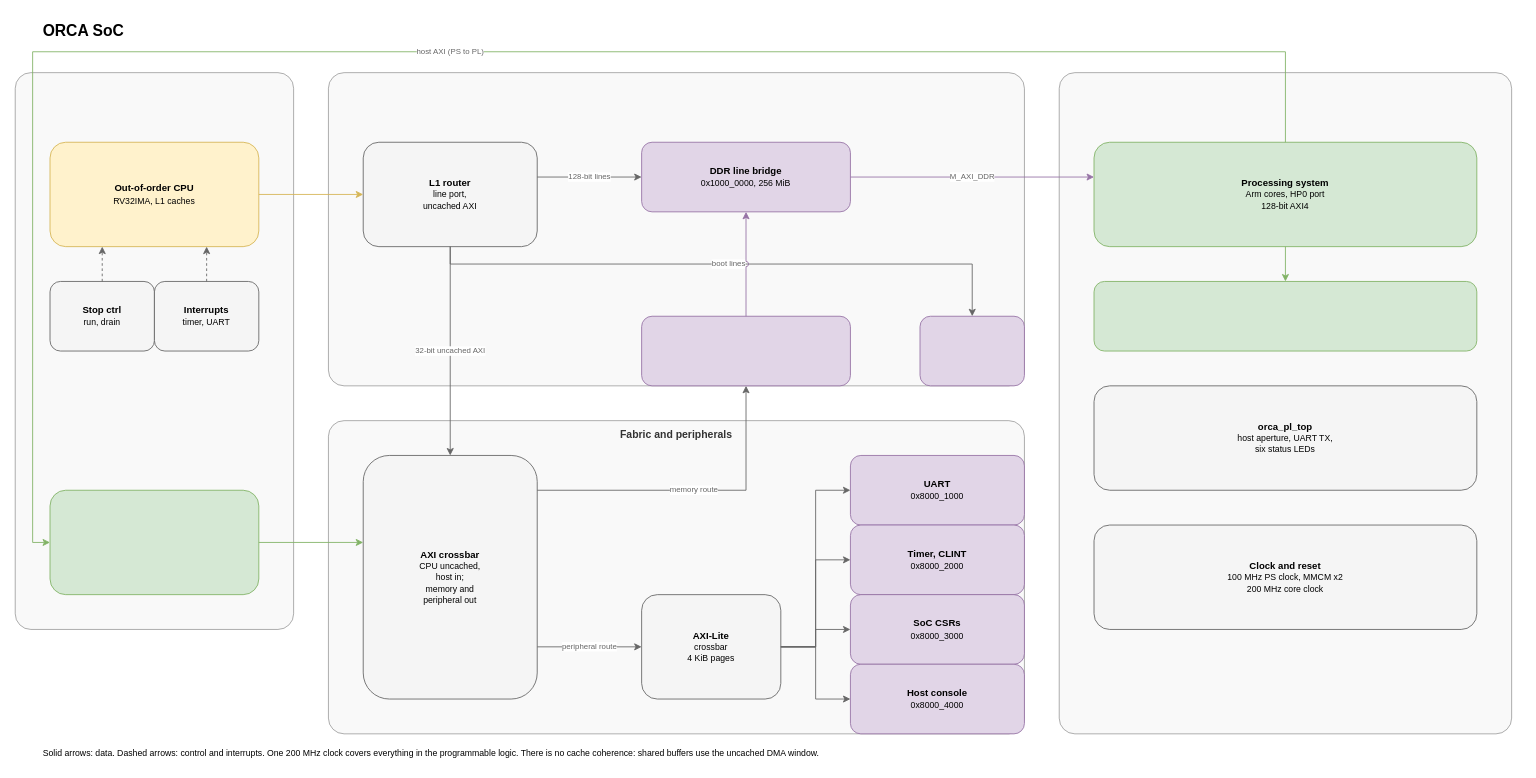
The diagram is 1536 pixels wide and 778 high, and some of its shapes have lost their labels. Each missing label, with the box of its shape:
Boot ROM 4 KiB: (919, 315, 1024, 386)
DMA region route uncached 16 KiB: (641, 315, 850, 386)
Host AXI 128 KiB aperture: (49, 489, 259, 595)
Initiators: (14, 72, 294, 629)
Memory path: (328, 72, 1024, 386)
Platform: (1058, 72, 1512, 734)
PS DDR 256 MiB reserved: (1093, 281, 1477, 351)
